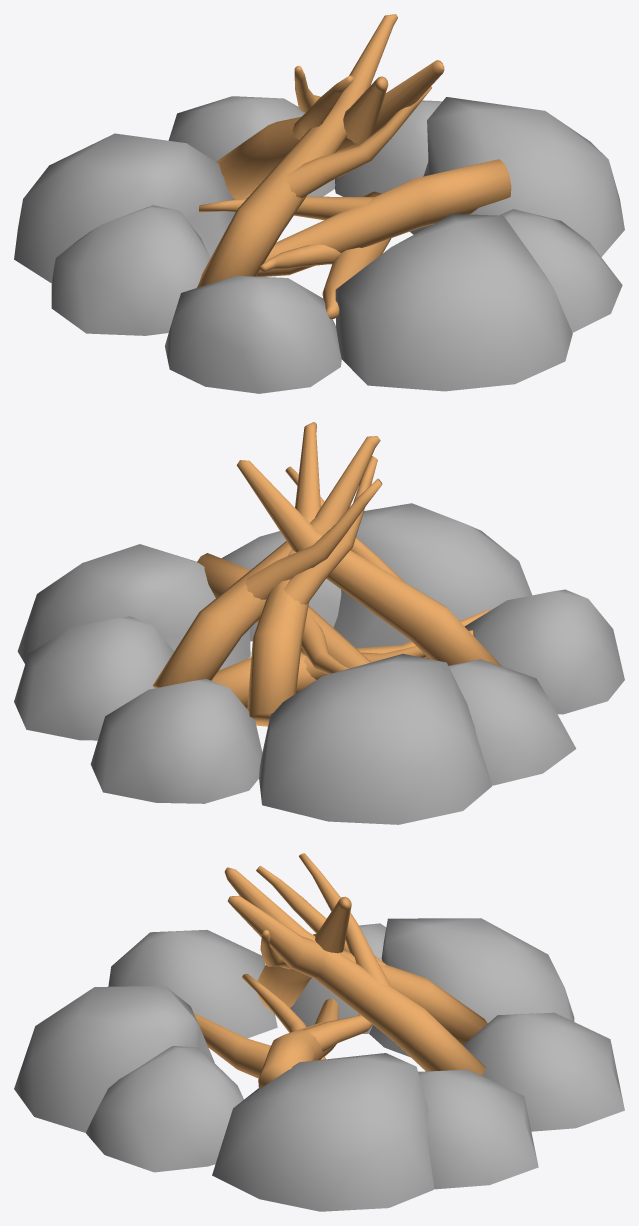
The model's file is m_campfire.fbx.
The picture shows the model from 3 angles, top to bottom: view 1: azimuth 30°, elevation 25°; view 2: azimuth 150°, elevation 25°; view 3: azimuth 270°, elevation 25°; orthographic projection. The views are drawn at different scales.
Visible parts, largest first — view 1: m_campfire; view 2: m_campfire; view 3: m_campfire.
Part boxes in pixels (box(x1,y1,x2,y2)): m_campfire: box(14, 14, 624, 393); m_campfire: box(14, 422, 624, 824); m_campfire: box(14, 853, 624, 1211).
Size of the model in its own units: 243 by 109 by 254.
